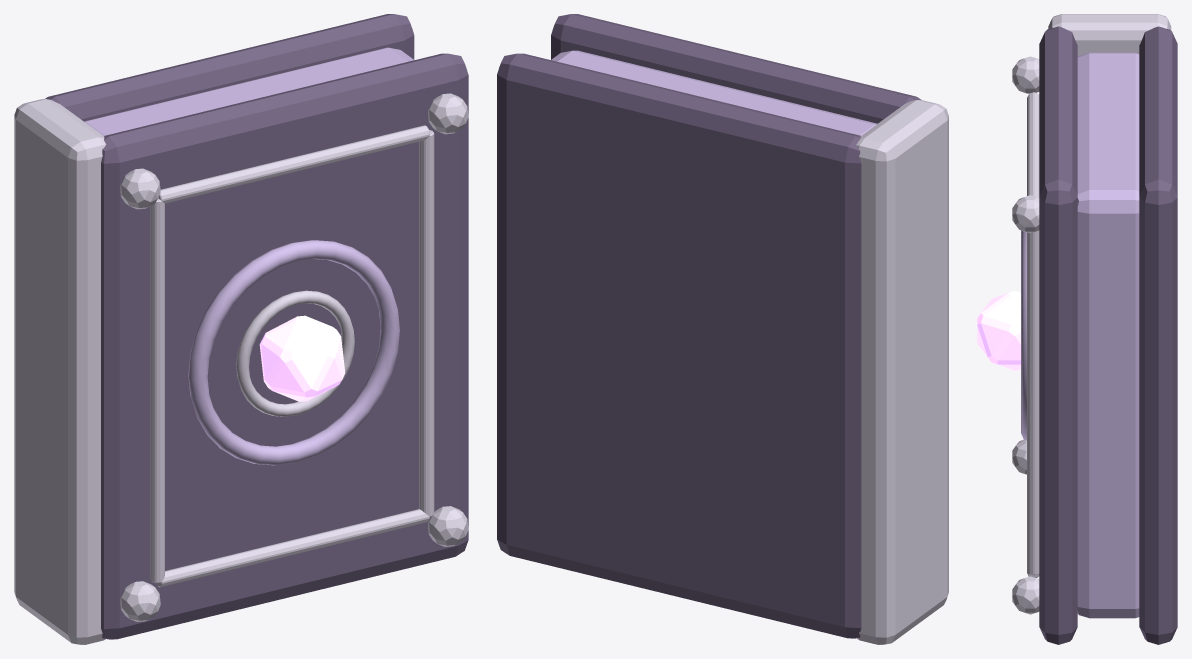
The model's file is mage-book-05-eclipse-ledger.glb.
The picture shows the model from 3 angles, left to right: view 1: azimuth 30°, elevation 25°; view 2: azimuth 150°, elevation 25°; view 3: azimuth 270°, elevation 25°; orthographic projection. The views are drawn at different scales.
Visible parts, largest first — view 1: mage-book-05-eclipse-ledger_FrontCover, mage-book-05-eclipse-ledger_Spine, mage-book-05-eclipse-ledger_CoverSigilRing, mage-book-05-eclipse-ledger_BackCover, mage-book-05-eclipse-ledger_PageBlock, mage-book-05-eclipse-ledger_GiltFrameSide_1, mage-book-05-eclipse-ledger_CoverGem, mage-book-05-eclipse-ledger_GiltFrameSide_-1, mage-book-05-eclipse-ledger_GiltFrame_0.86, mage-book-05-eclipse-ledger_GiltFrame_0.1, mage-book-05-eclipse-ledger_CoverSigilInner, mage-book-05-eclipse-ledger_CornerStud_-1_0.07 (+3 smaller); view 2: mage-book-05-eclipse-ledger_BackCover, mage-book-05-eclipse-ledger_Spine, mage-book-05-eclipse-ledger_FrontCover, mage-book-05-eclipse-ledger_PageBlock; view 3: mage-book-05-eclipse-ledger_PageBlock, mage-book-05-eclipse-ledger_FrontCover, mage-book-05-eclipse-ledger_BackCover, mage-book-05-eclipse-ledger_GiltFrameSide_1, mage-book-05-eclipse-ledger_Spine, mage-book-05-eclipse-ledger_CoverGem, mage-book-05-eclipse-ledger_GiltFrame_0.86, mage-book-05-eclipse-ledger_CoverSigilRing, mage-book-05-eclipse-ledger_CornerStud_1_0.89, mage-book-05-eclipse-ledger_CornerStud_1_0.07, mage-book-05-eclipse-ledger_CornerStud_-1_0.89, mage-book-05-eclipse-ledger_CornerStud_-1_0.07.
Boxes of the visible parts, x1,y1,x2,y2 form: mage-book-05-eclipse-ledger_FrontCover: (101,53,468,639); mage-book-05-eclipse-ledger_Spine: (14,99,105,644); mage-book-05-eclipse-ledger_CoverSigilRing: (188,240,399,465); mage-book-05-eclipse-ledger_BackCover: (45,14,414,121); mage-book-05-eclipse-ledger_PageBlock: (84,47,414,135); mage-book-05-eclipse-ledger_GiltFrameSide_1: (419,130,434,516); mage-book-05-eclipse-ledger_CoverGem: (259,315,345,401); mage-book-05-eclipse-ledger_GiltFrameSide_-1: (150,198,164,582); mage-book-05-eclipse-ledger_GiltFrame_0.86: (158,125,429,203); mage-book-05-eclipse-ledger_GiltFrame_0.1: (155,509,429,587); mage-book-05-eclipse-ledger_CoverSigilInner: (236,290,354,416); mage-book-05-eclipse-ledger_CornerStud_-1_0.07: (120,581,160,621); mage-book-05-eclipse-ledger_BackCover: (497,53,861,638); mage-book-05-eclipse-ledger_Spine: (856,100,948,644); mage-book-05-eclipse-ledger_FrontCover: (551,14,921,123); mage-book-05-eclipse-ledger_PageBlock: (551,50,877,135); mage-book-05-eclipse-ledger_PageBlock: (1077,52,1139,618); mage-book-05-eclipse-ledger_FrontCover: (1039,26,1077,644); mage-book-05-eclipse-ledger_BackCover: (1139,26,1177,644); mage-book-05-eclipse-ledger_GiltFrameSide_1: (1027,231,1039,575); mage-book-05-eclipse-ledger_Spine: (1048,14,1171,56); mage-book-05-eclipse-ledger_CoverGem: (977,291,1020,370); mage-book-05-eclipse-ledger_GiltFrame_0.86: (1027,92,1039,197); mage-book-05-eclipse-ledger_CoverSigilRing: (1021,230,1026,440); mage-book-05-eclipse-ledger_CornerStud_1_0.89: (1012,195,1039,233); mage-book-05-eclipse-ledger_CornerStud_1_0.07: (1012,576,1039,614); mage-book-05-eclipse-ledger_CornerStud_-1_0.89: (1012,56,1039,93); mage-book-05-eclipse-ledger_CornerStud_-1_0.07: (1012,440,1026,474).
Bounding box in the file's own units: 0.825 × 1 × 0.3912.
